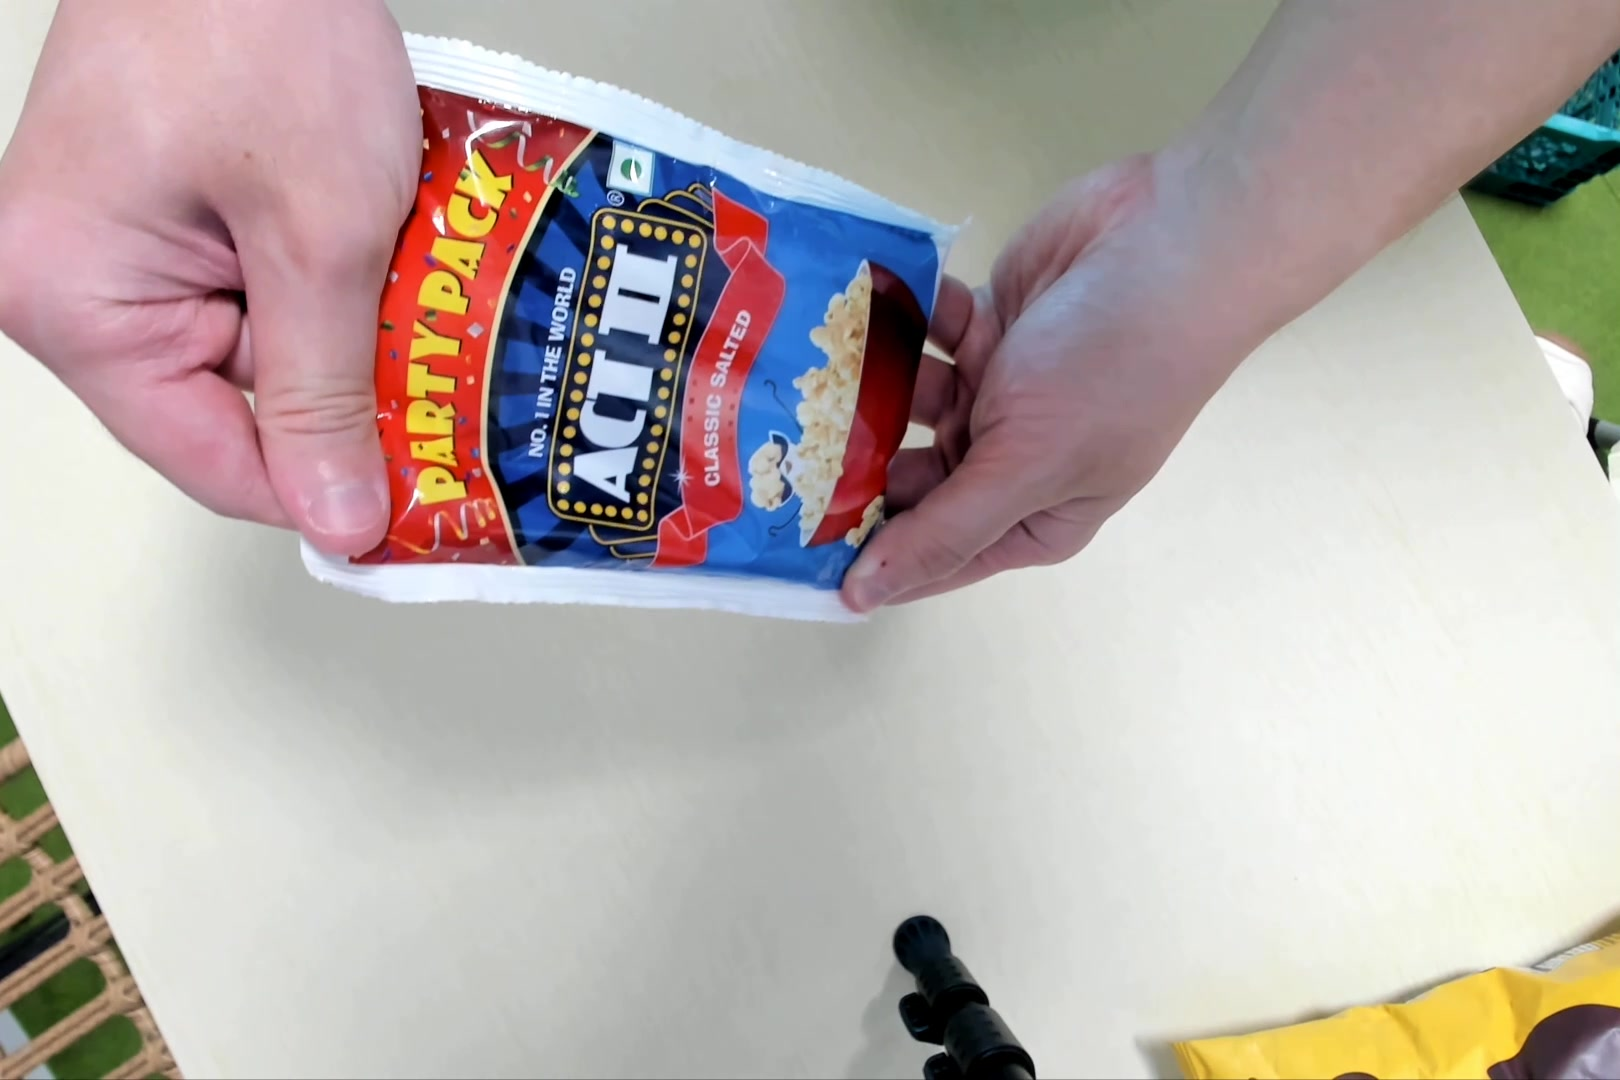PotatoChipsKeropok_100-199g_NonHalal_NonHealthy: (363, 29, 965, 630)
